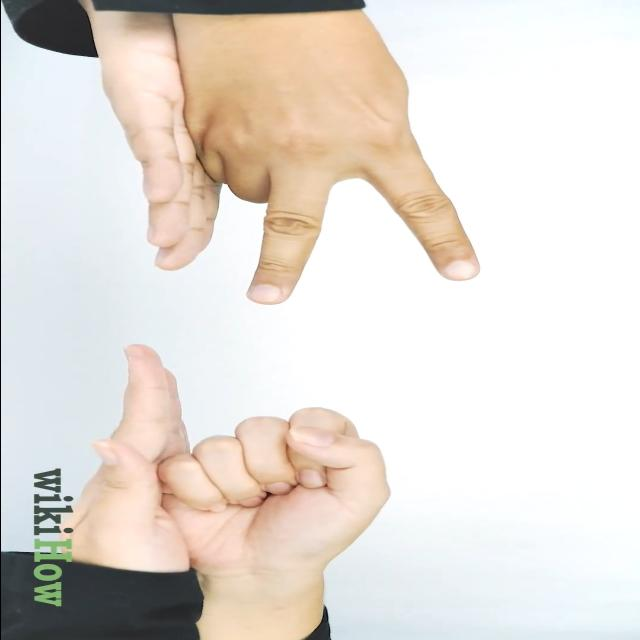Rock: (154, 410, 393, 578)
Scissors: (180, 16, 486, 304)
